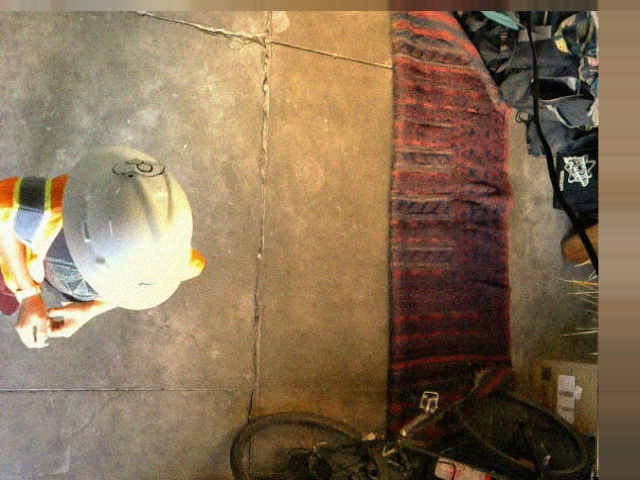eight: (109, 156, 166, 178)
